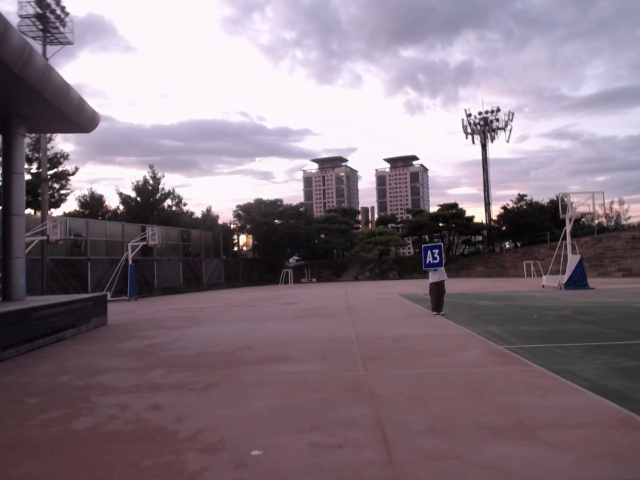delivery_a3: (422, 245, 444, 269)
